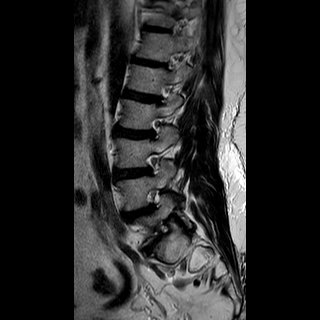RFS0: (139, 181, 166, 215), (140, 148, 164, 179), (151, 81, 176, 110), (144, 114, 165, 146)
